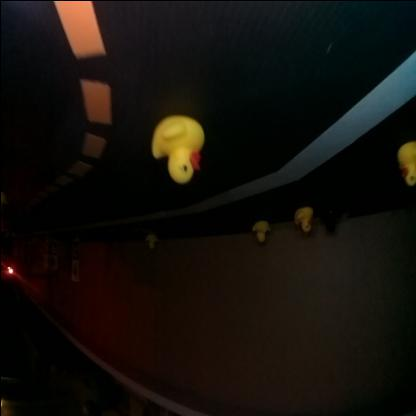Duckie: (150, 116, 202, 184), (396, 141, 414, 187), (292, 207, 312, 232), (250, 222, 266, 243), (146, 234, 154, 250)
Traffic light: (6, 268, 12, 275)
